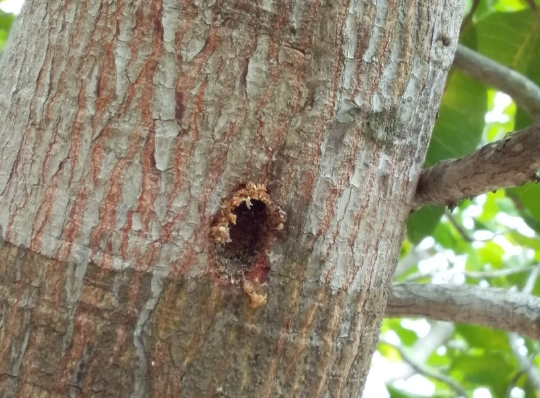Apate terebrans: (194, 173, 315, 308)
